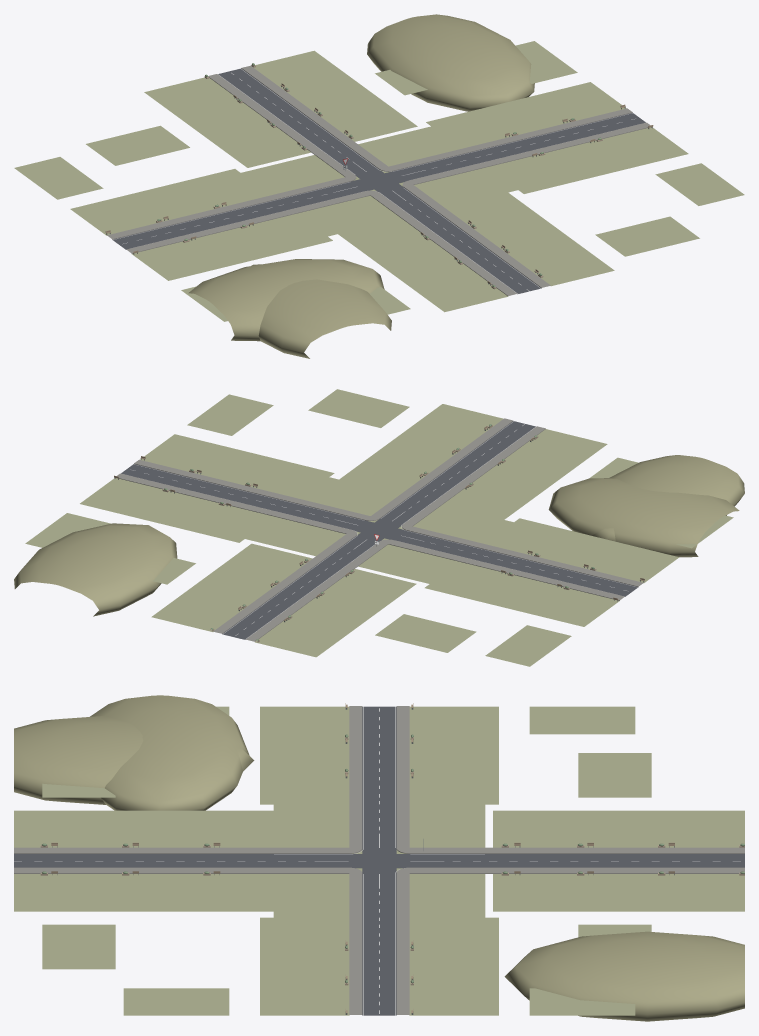
3 views of the same model, one above another, from view 1: azimuth 30°, elevation 25°; view 2: azimuth 150°, elevation 25°; view 3: azimuth 270°, elevation 25° (orthographic). The views are drawn at different scales.
Visible parts, largest first — view 1: static; view 2: static; view 3: static.
Boxes of the visible parts, x1,y1,x2,y2 form: static: (14, 14, 744, 358); static: (14, 389, 744, 666); static: (14, 695, 744, 1021).
Size of what is drawn, in the model's own units: 180 by 14.08 by 180.
Materials: 5 (4 with a texture image).
